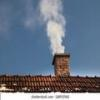chimneys: (52, 53, 70, 76)
